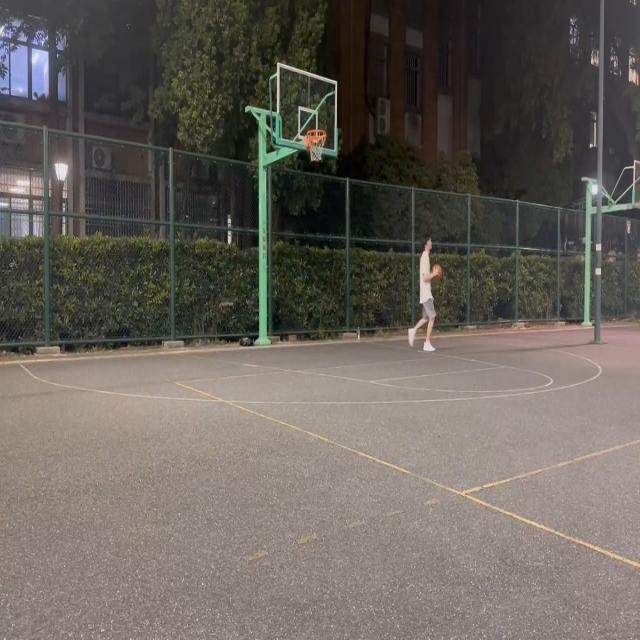basketball: (306, 129, 327, 162)
rim: (432, 264, 442, 280)
